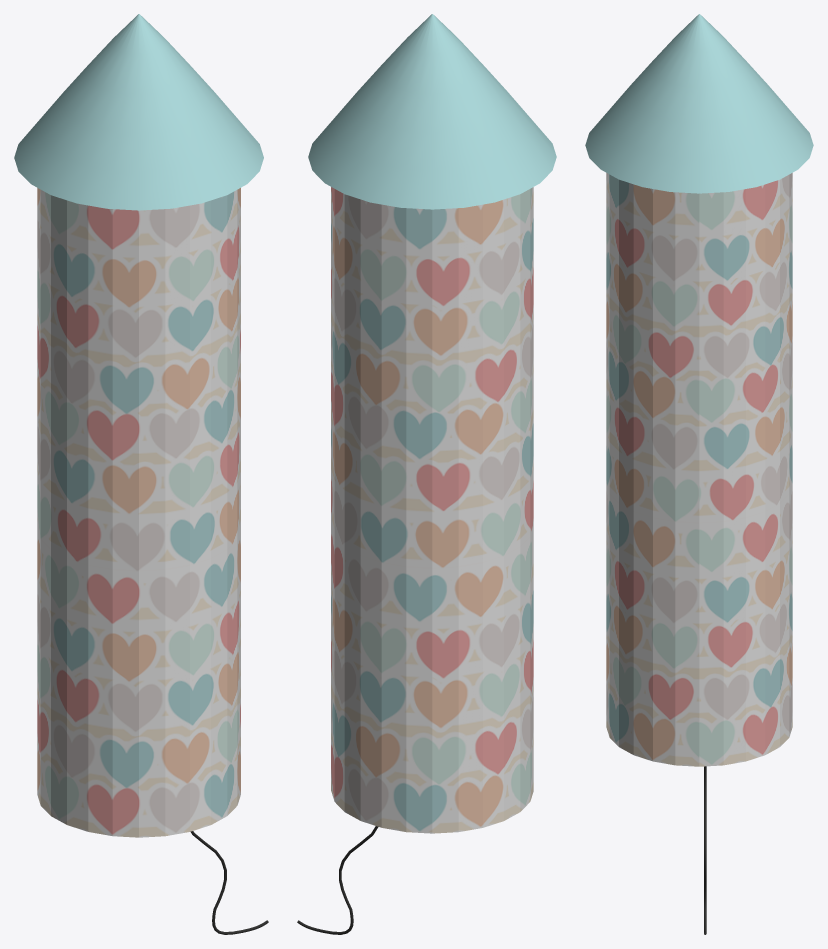
Rendered from firecracker_nostick1.fbx.
The picture shows the model from 3 angles, left to right: view 1: azimuth 30°, elevation 25°; view 2: azimuth 150°, elevation 25°; view 3: azimuth 270°, elevation 25°; orthographic projection. The views are drawn at different scales.
Visible parts, largest first — view 1: Cone002; view 2: Cone002; view 3: Cone002.
Part boxes in pixels (x1=…): Cone002: x1=14, y1=14, x2=268, y2=934; Cone002: x1=297, y1=14, x2=556, y2=934; Cone002: x1=585, y1=14, x2=813, y2=934.
Bounding box in the file's own units: 57.62 × 217 × 51.81.
